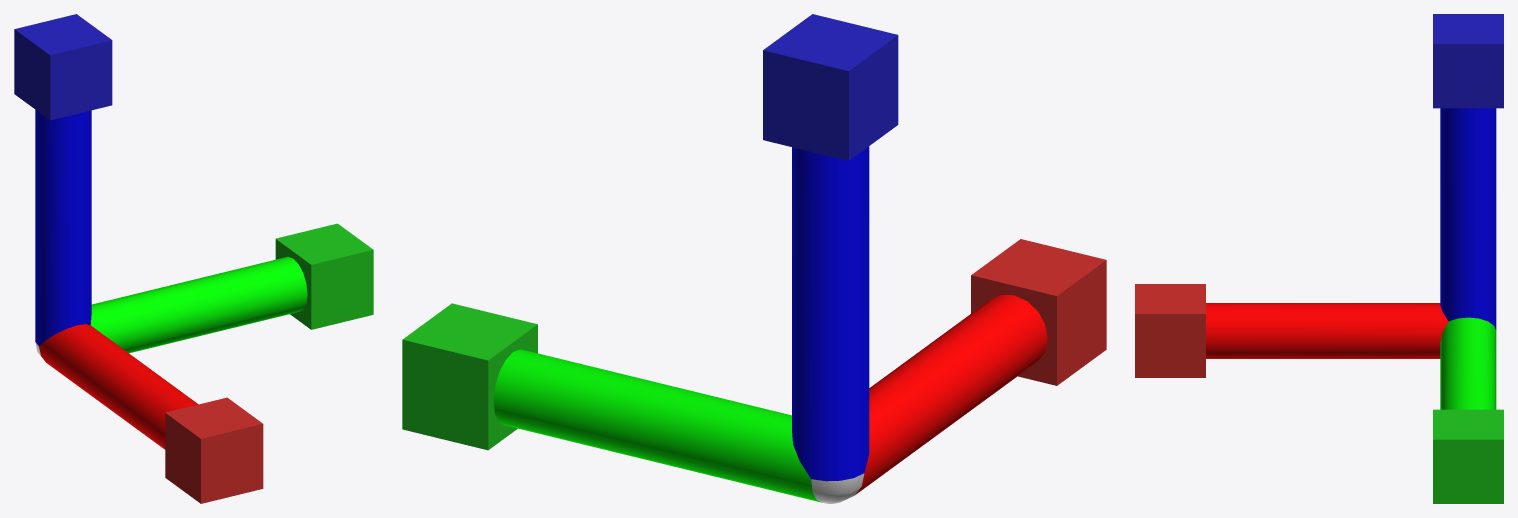
Rendered from Scale.fbx.
The picture shows the model from 3 angles, left to right: view 1: azimuth 30°, elevation 25°; view 2: azimuth 150°, elevation 25°; view 3: azimuth 270°, elevation 25°; orthographic projection. The views are drawn at different scales.
Visible parts, largest first — view 1: Cube; view 2: Cube; view 3: Cube.
Part boxes in pixels (x1=…): Cube: x1=14, y1=14, x2=373, y2=503; Cube: x1=402, y1=14, x2=1106, y2=503; Cube: x1=1135, y1=14, x2=1503, y2=503.
Size of the model in its own units: 5200 by 5200 by 5200.
